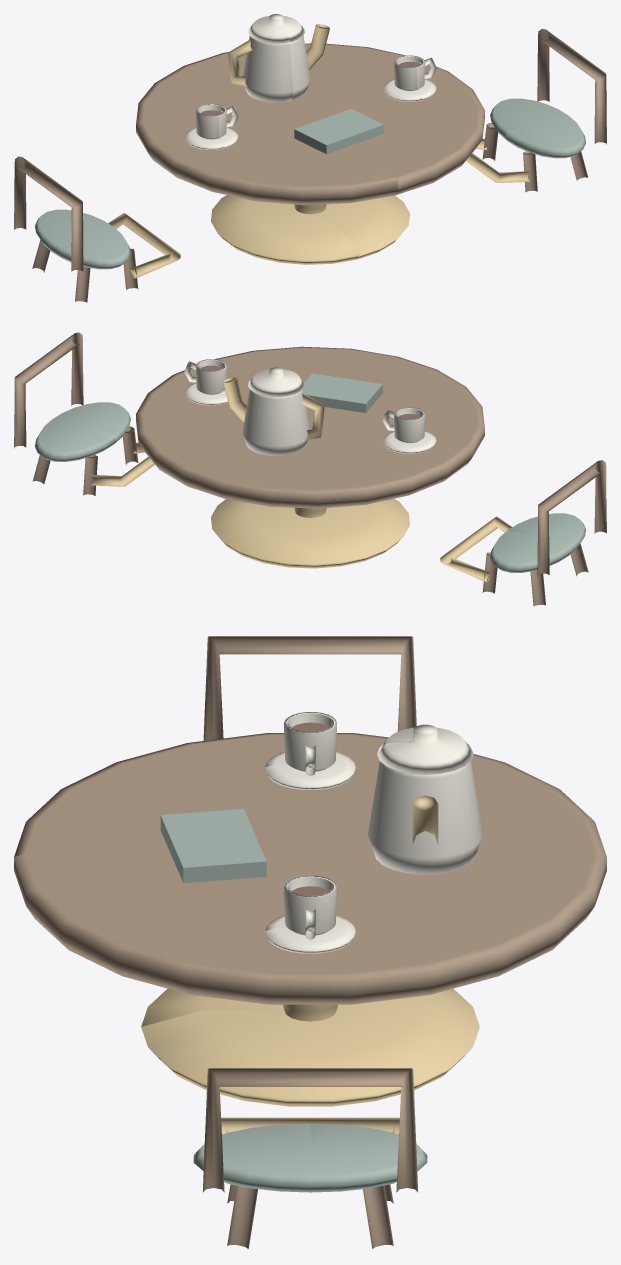
Rendered from coffee_corner.glb.
3 views of the same model, one above another, from view 1: azimuth 30°, elevation 25°; view 2: azimuth 150°, elevation 25°; view 3: azimuth 270°, elevation 25° (orthographic). The views are drawn at different scales.
Parts seen in each view (by area): view 1: Coffee_Table, Coffee_Seat_1_Frame, Coffee_Seat_0_Frame, Coffee_Pot, Coffee_Book, Coffee_Cup_0_Mesh, Coffee_Cup_1_Mesh, Coffee_Saucer_1, Coffee_Saucer_0; view 2: Coffee_Table, Coffee_Seat_1_Frame, Coffee_Seat_0_Frame, Coffee_Pot, Coffee_Book, Coffee_Cup_0_Mesh, Coffee_Cup_1_Mesh, Coffee_Saucer_0, Coffee_Saucer_1; view 3: Coffee_Table, Coffee_Seat_1_Frame, Coffee_Pot, Coffee_Seat_0_Frame, Coffee_Book, Coffee_Cup_1_Mesh, Coffee_Cup_0_Mesh, Coffee_Saucer_1, Coffee_Saucer_0.
Boxes of the visible parts, left/top/right/bottom form: Coffee_Table: left=136, top=43, right=484, bottom=264; Coffee_Seat_1_Frame: left=466, top=29, right=606, bottom=192; Coffee_Seat_0_Frame: left=14, top=156, right=180, bottom=302; Coffee_Pot: left=228, top=14, right=329, bottom=102; Coffee_Book: left=294, top=108, right=383, bottom=154; Coffee_Cup_0_Mesh: left=195, top=104, right=238, bottom=139; Coffee_Cup_1_Mesh: left=394, top=55, right=436, bottom=91; Coffee_Saucer_1: left=383, top=79, right=436, bottom=101; Coffee_Saucer_0: left=184, top=127, right=237, bottom=150; Coffee_Table: left=136, top=346, right=484, bottom=568; Coffee_Seat_1_Frame: left=14, top=332, right=154, bottom=495; Coffee_Seat_0_Frame: left=440, top=460, right=606, bottom=606; Coffee_Pot: left=223, top=367, right=324, bottom=455; Coffee_Book: left=303, top=373, right=382, bottom=412; Coffee_Cup_0_Mesh: left=382, top=407, right=425, bottom=443; Coffee_Cup_1_Mesh: left=184, top=359, right=226, bottom=394; Coffee_Saucer_0: left=383, top=431, right=436, bottom=453; Coffee_Saucer_1: left=184, top=383, right=228, bottom=405; Coffee_Table: left=14, top=733, right=606, bottom=1106; Coffee_Seat_1_Frame: left=193, top=1068, right=427, bottom=1248; Coffee_Pot: left=368, top=724, right=482, bottom=874; Coffee_Seat_0_Frame: left=203, top=636, right=416, bottom=740; Coffee_Book: left=160, top=808, right=266, bottom=883; Coffee_Cup_1_Mesh: left=284, top=875, right=336, bottom=939; Coffee_Cup_0_Mesh: left=284, top=712, right=336, bottom=776; Coffee_Saucer_1: left=265, top=915, right=355, bottom=953; Coffee_Saucer_0: left=265, top=752, right=355, bottom=789.
Size of the model in its own units: 1.73 by 0.5713 by 0.98.
